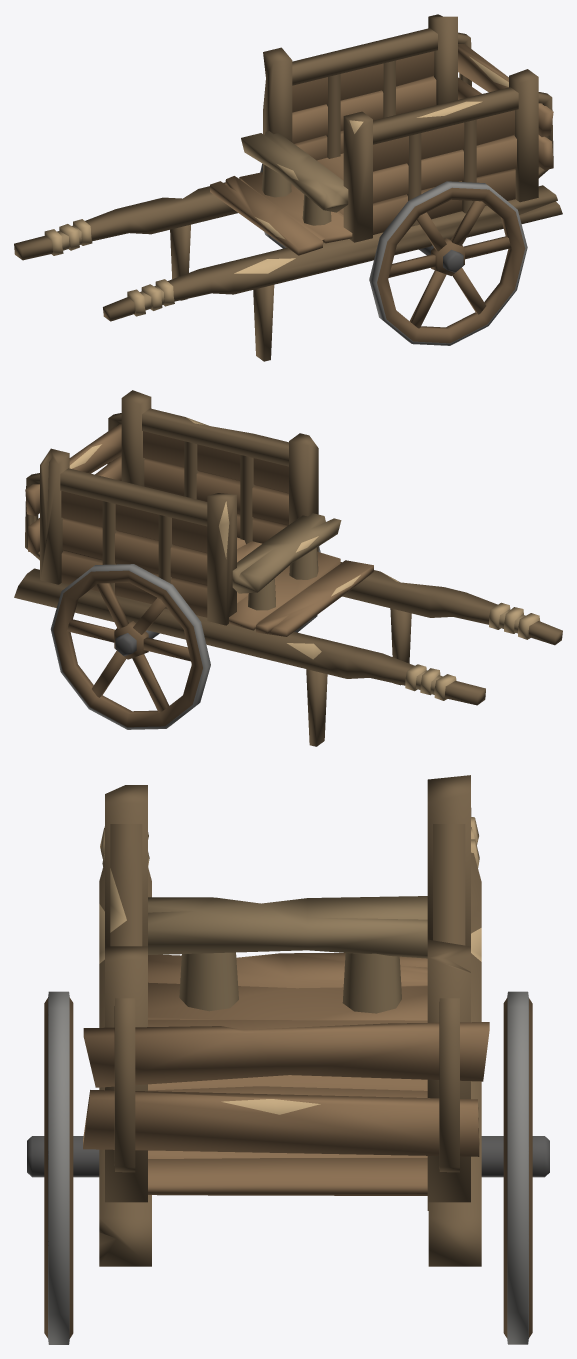
The model's file is rpgpp_lt_wagon_01 -col.glb.
3 views of the same model, one above another, from view 1: azimuth 30°, elevation 25°; view 2: azimuth 150°, elevation 25°; view 3: azimuth 270°, elevation 25° (orthographic). The views are drawn at different scales.
Parts seen in each view (by area): view 1: rpgpp_lt_wagon_01 -col; view 2: rpgpp_lt_wagon_01 -col; view 3: rpgpp_lt_wagon_01 -col.
Part boxes in pixels (x1,y1,x2,y2): rpgpp_lt_wagon_01 -col: (14, 14, 562, 361); rpgpp_lt_wagon_01 -col: (14, 390, 562, 746); rpgpp_lt_wagon_01 -col: (27, 775, 549, 1344).
Bounding box in the file's own units: 4.11 × 2.04 × 2.04.
1 material, 1 textured.
